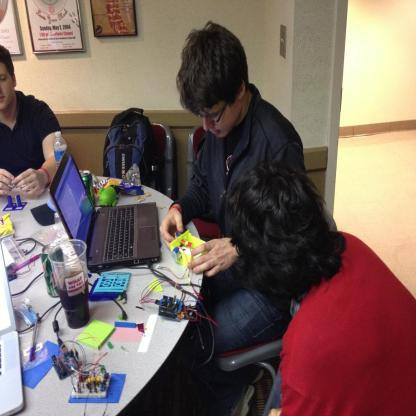board: (47, 148, 161, 274), (42, 242, 64, 298), (79, 170, 95, 212), (54, 131, 66, 166)
